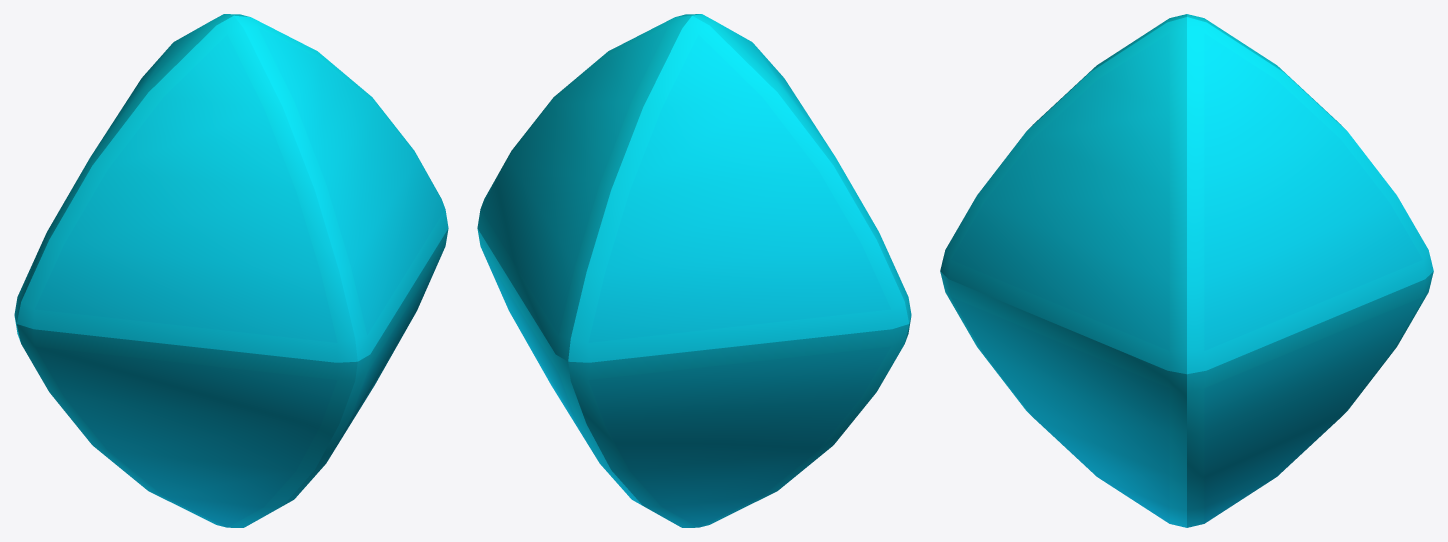
File: Gem_V1_00.fbx
The picture shows the model from 3 angles, left to right: view 1: azimuth 30°, elevation 25°; view 2: azimuth 150°, elevation 25°; view 3: azimuth 270°, elevation 25°; orthographic projection.
Visible parts, largest first — view 1: Gem_V1_00; view 2: Gem_V1_00; view 3: Gem_V1_00.
Boxes of the visible parts, x1,y1,x2,y2 form: Gem_V1_00: (14, 14, 448, 527); Gem_V1_00: (477, 14, 911, 527); Gem_V1_00: (940, 14, 1433, 527).
Bounding box in the file's own units: 34.95 × 39.7 × 34.95.
